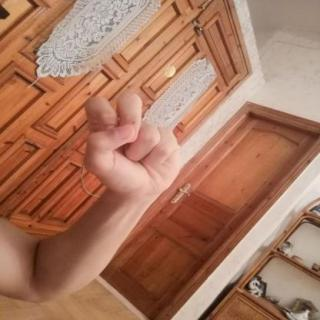QAAF: (70, 86, 193, 213)
